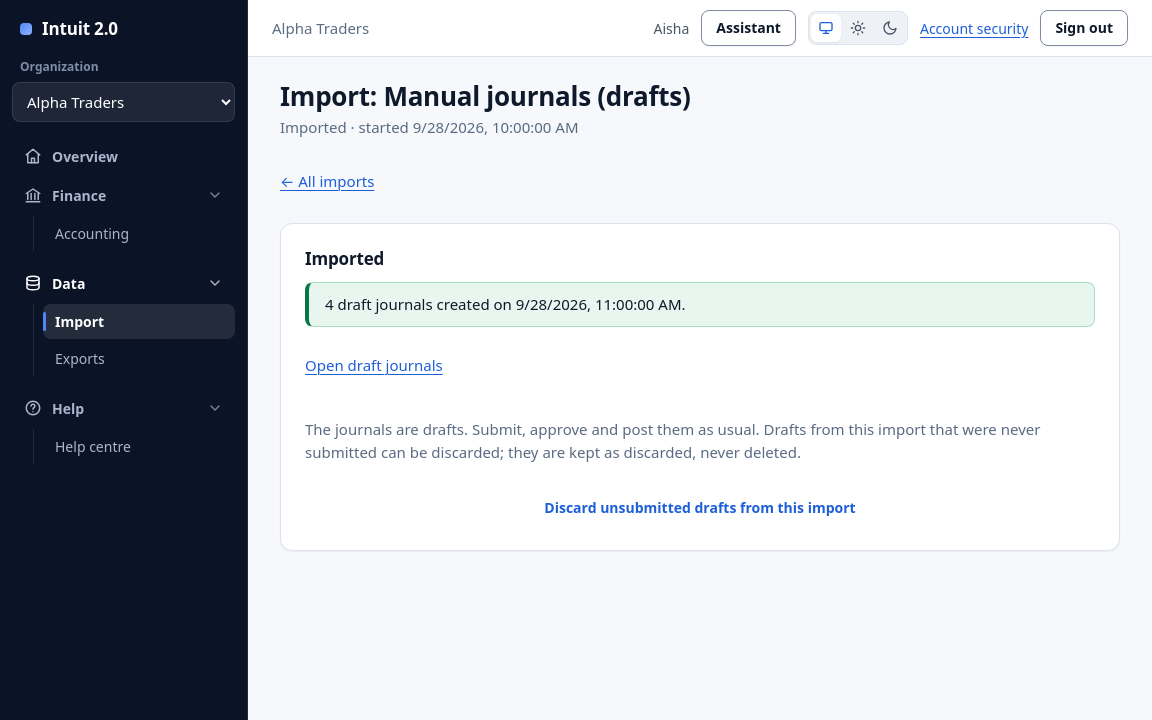
Scenario: result › discards unsubmitted imported drafts after confirmation (L-9)
Expected: the text "4 draft journals created on 9/28/2026, 11:00:00 AM." is shown, [305,282,1095,327]
Click the button "Discard unsubmitted drafts from this import": (700, 508) [305,490,1095,526]
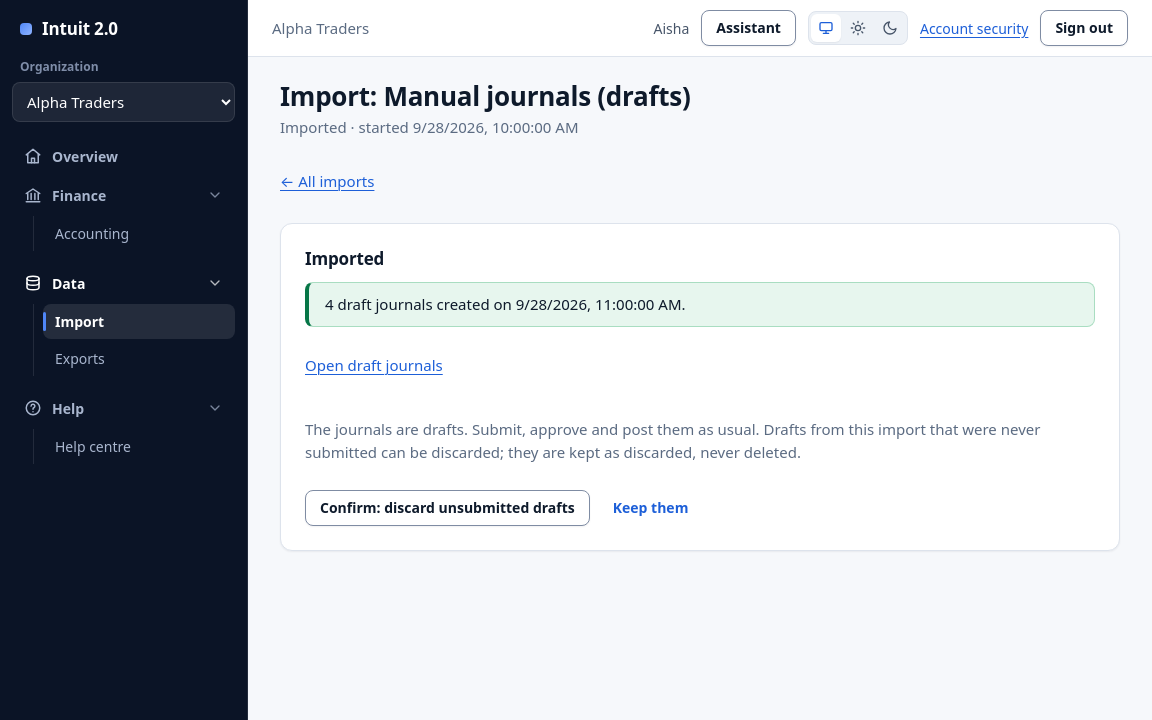
Click the button "Confirm: discard unsubmitted drafts": (447, 508) [305,490,590,526]
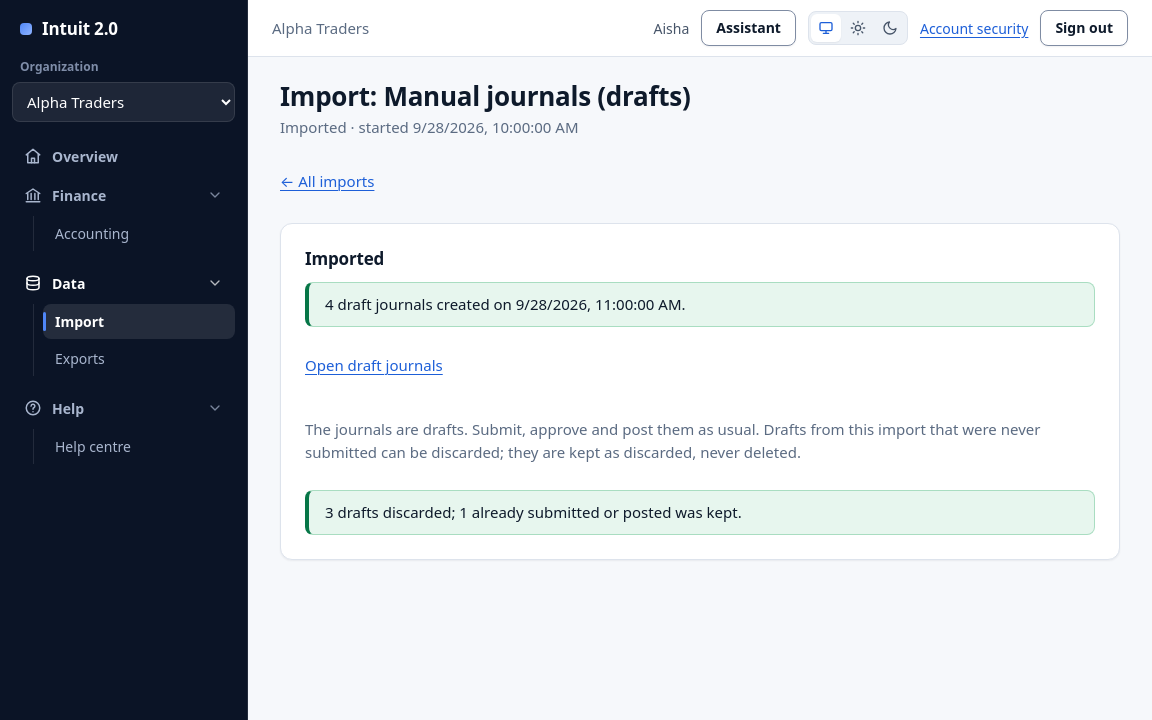
Now the text "3 drafts discarded; 1 already submitted or posted was kept." is shown, box [305,490,1095,535]
